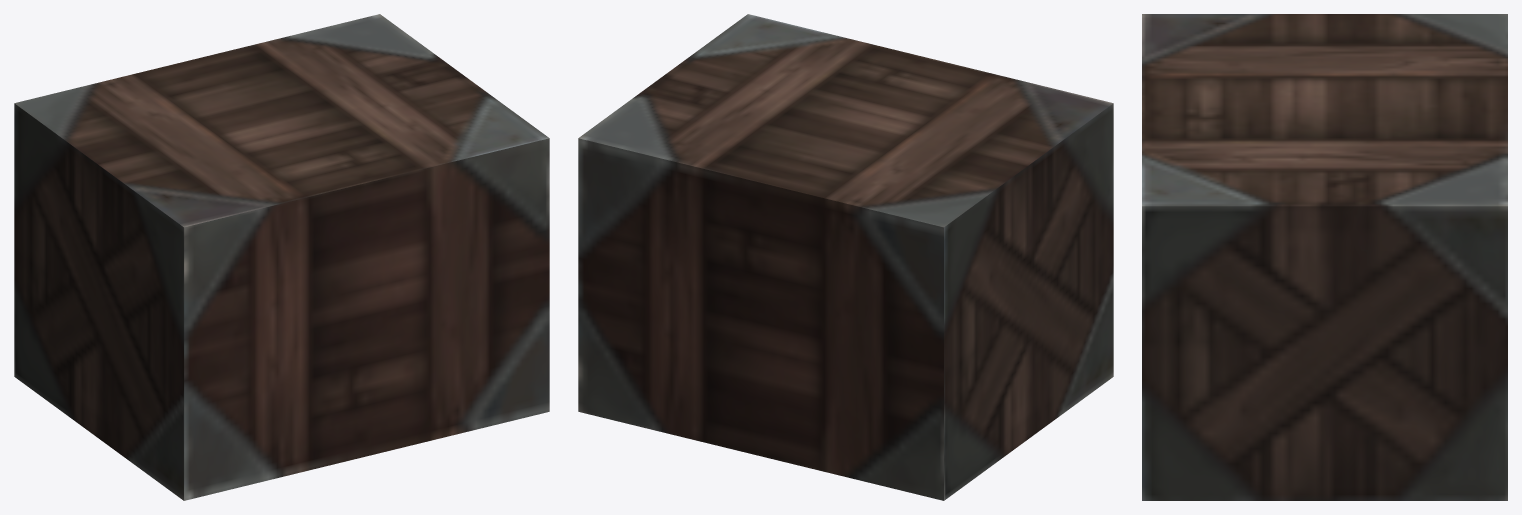
File: Battle04_Cube_19.FBX
3 views of the same model, side by side, from view 1: azimuth 30°, elevation 25°; view 2: azimuth 150°, elevation 25°; view 3: azimuth 270°, elevation 25° (orthographic). The views are drawn at different scales.
Parts seen in each view (by area): view 1: Battle04_Cube_19; view 2: Battle04_Cube_19; view 3: Battle04_Cube_19.
Part boxes in pixels (x1=…): Battle04_Cube_19: x1=14, y1=14, x2=549, y2=500; Battle04_Cube_19: x1=578, y1=14, x2=1113, y2=500; Battle04_Cube_19: x1=1142, y1=14, x2=1507, y2=500.
Bounding box in the file's own units: 0.9571 × 0.6841 × 0.7694.
